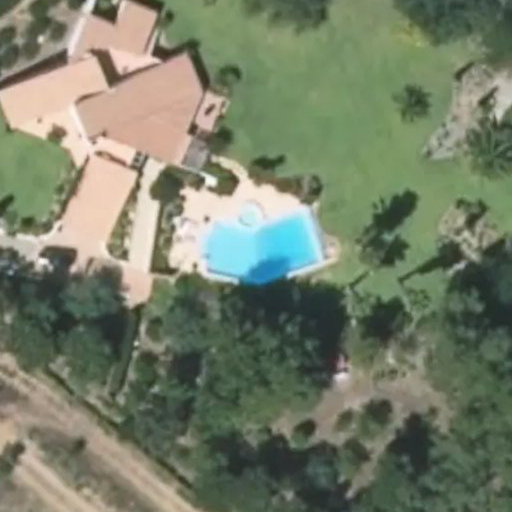pool: (188, 223, 320, 258)
